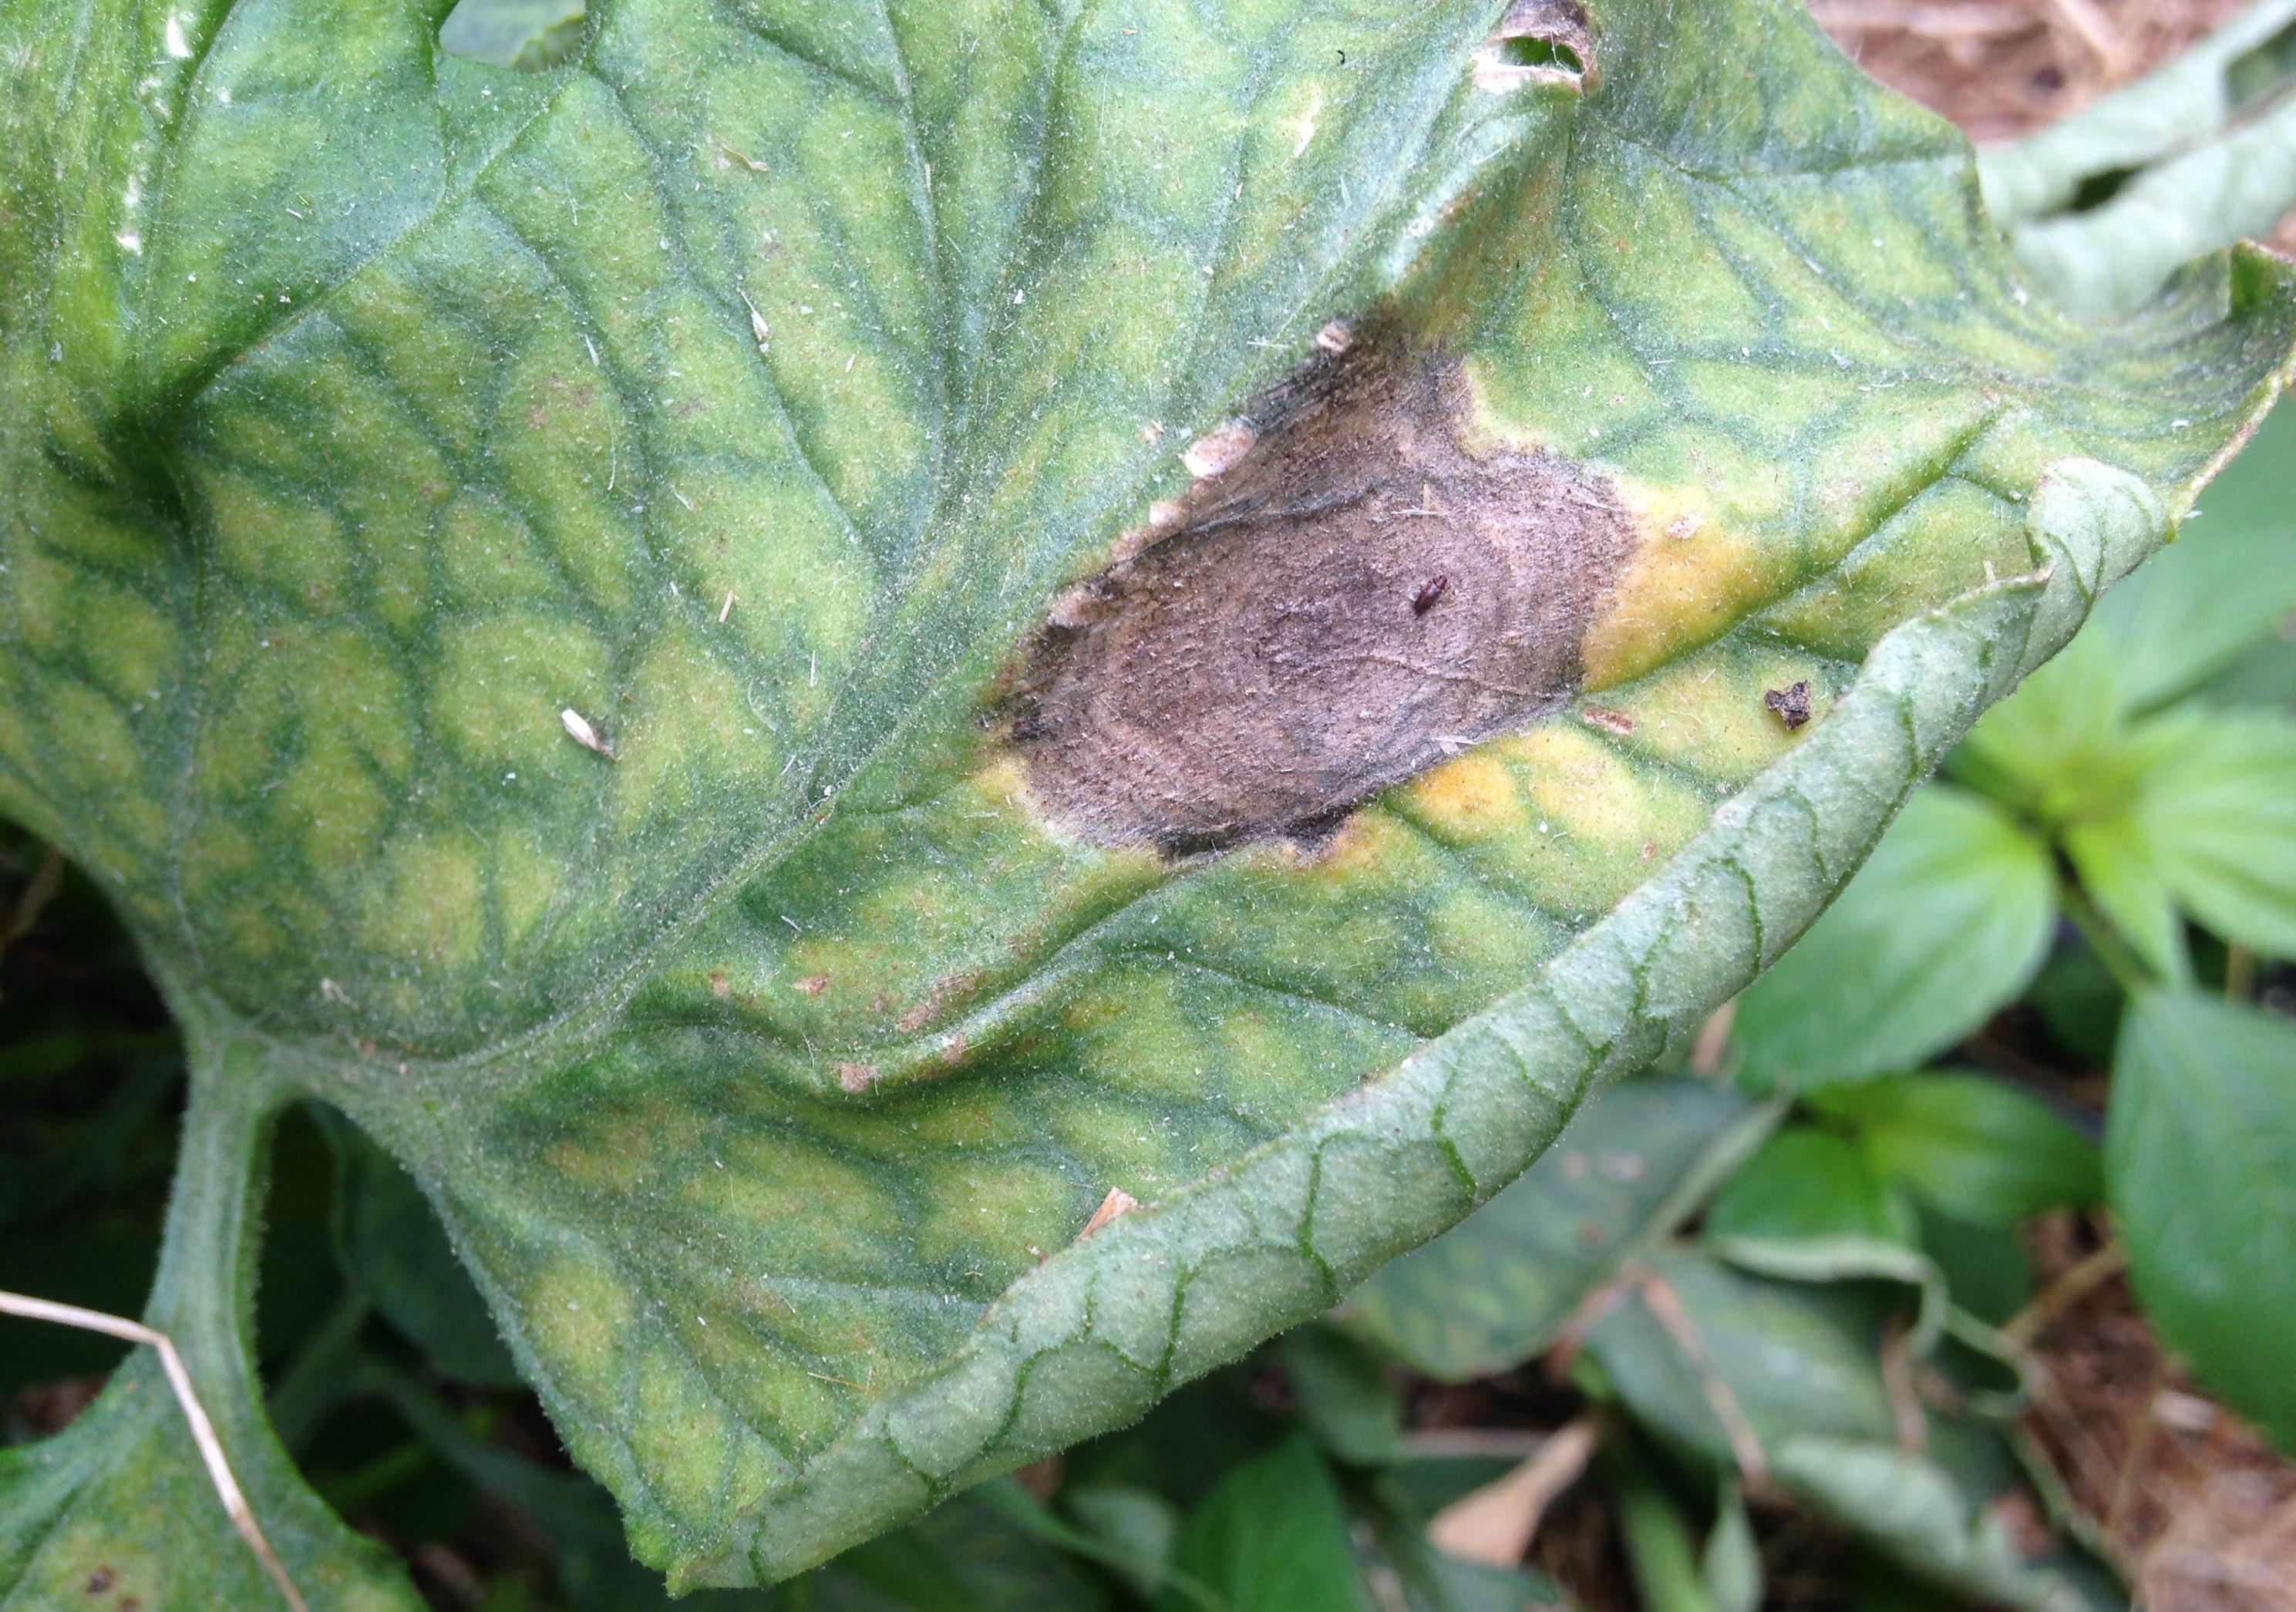Tomato Early blight leaf: (1085, 87, 2296, 635)
